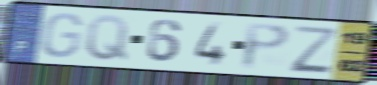4: (192, 21, 228, 68)
6: (146, 18, 183, 64)
G: (39, 12, 85, 60)
P: (240, 22, 293, 72)
Q: (84, 13, 130, 63)
Z: (288, 23, 336, 74)
